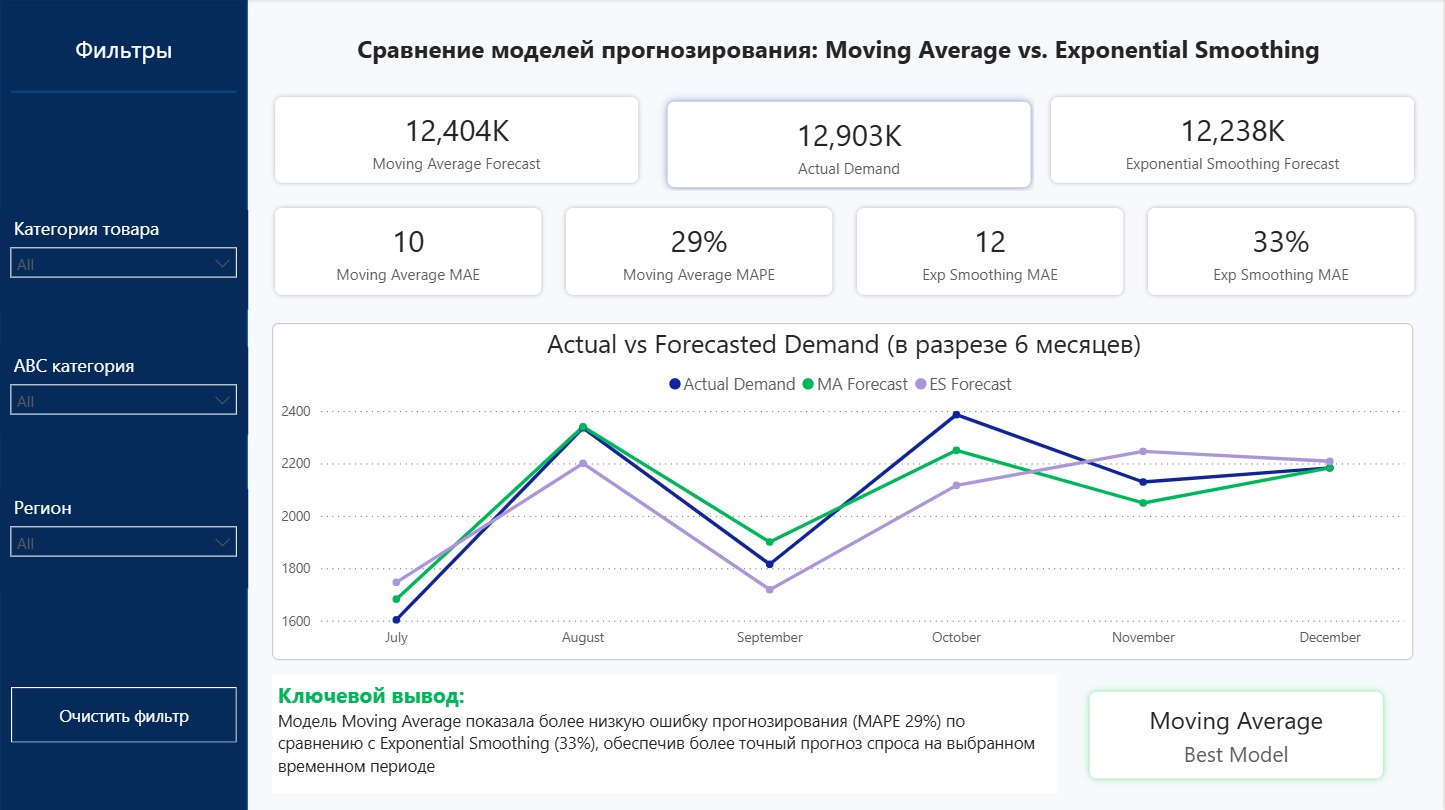

Layout of this report page (visuals, bound fields, positions):
{"tool":"powerbi","page":{"name":"Forecast Model Comparison","canvas":[1280,720],"ordinal":0},"visuals":[{"type":"shape","box":[0,0,220.8,720.2],"z":0},{"type":"slicer","fields":{"Values":["ABC analysis.abc_class"]},"box":[0,308.8,220.8,78.4],"z":1000},{"type":"slicer","fields":{"Values":["sales_data.Product_Category"]},"box":[0,187,220.8,88.1],"z":2000},{"type":"actionButton","box":[10.9,610.5,200.3,49.5],"z":3000},{"type":"slicer","fields":{"Values":["sales_data.Region"]},"box":[0,434.3,220.8,88.1],"z":4000},{"type":"shape","box":[10.9,62.7,200.3,38.6],"z":5000},{"type":"textbox","box":[10.9,24.1,200.3,38.6],"z":6000},{"type":"cardVisual","fields":{"Data":["Sum(MovingAverage.MovingAvg_Forecast)","sales_data.Total Quantity_Sold","Sum(ExpSmoothing.ExpSmooth_Forecast)"]},"box":[220.8,62.7,1059.3,124.3],"z":7000},{"type":"cardVisual","fields":{"Data":["MovingAverage.MovingAverage MAE","MovingAverage.MovingAverage MAPE","ExpSmoothing.EXPSmoothing MAE","ExpSmoothing.EXPSmoothing MAPE"]},"box":[220.8,161.7,1059.3,125.5],"z":8000},{"type":"textbox","box":[234,24.1,1020.6,49.5],"z":9000},{"type":"lineChart","title":"Actual vs Forecasted Demand (в разрезе 6 месяцев)","fields":{"Category":["MovingAverage.Month"],"Y":["Sum(MovingAverage.Monthly_Total)","Sum(MovingAverage.MovingAvg_Forecast)"],"Y2":["Sum(ExpSmoothing.ExpSmooth_Forecast)"]},"box":[242.5,287.1,1012.2,299.2],"z":10000},{"type":"textbox","box":[242.5,599.6,696.1,105],"z":11000},{"type":"cardVisual","fields":{"Data":["MovingAverage.Лучшая модель"]},"box":[938.6,586.3,316.1,133.9],"z":12000}]}

Visuals, with their boxes in screenshot pixels (x1, y1, x2, y2), scaled from the page's 1280x720 canvas onto the 1445x810 screenshot:
shape: (left=0, top=0, right=249, bottom=809)
slicer - ABC analysis.abc_class: (left=0, top=347, right=249, bottom=436)
slicer - sales_data.Product_Category: (left=0, top=210, right=249, bottom=309)
actionButton: (left=12, top=687, right=238, bottom=742)
slicer - sales_data.Region: (left=0, top=489, right=249, bottom=588)
shape: (left=12, top=71, right=238, bottom=114)
textbox: (left=12, top=27, right=238, bottom=71)
cardVisual - Sum(MovingAverage.MovingAvg_Forecast) x sales_data.Total Quantity_Sold: (left=249, top=71, right=1444, bottom=210)
cardVisual - MovingAverage.MovingAverage MAE x MovingAverage.MovingAverage MAPE: (left=249, top=182, right=1444, bottom=323)
textbox: (left=264, top=27, right=1416, bottom=83)
"Actual vs Forecasted Demand (в разрезе 6 месяцев)" lineChart: (left=274, top=323, right=1416, bottom=660)
textbox: (left=274, top=675, right=1060, bottom=793)
cardVisual - MovingAverage.Лучшая модель: (left=1060, top=660, right=1416, bottom=809)
